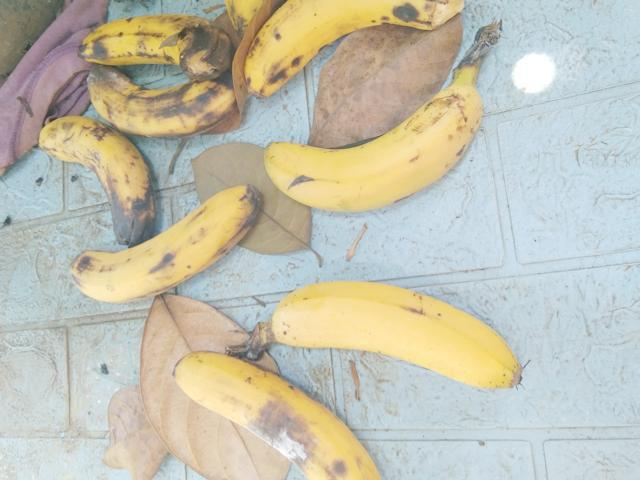freshripe: (251, 248, 542, 405)
ripe: (260, 73, 493, 226), (44, 183, 250, 323)
rotten: (164, 341, 400, 479), (230, 0, 465, 87), (38, 117, 155, 239), (71, 66, 243, 148), (63, 3, 214, 67)
